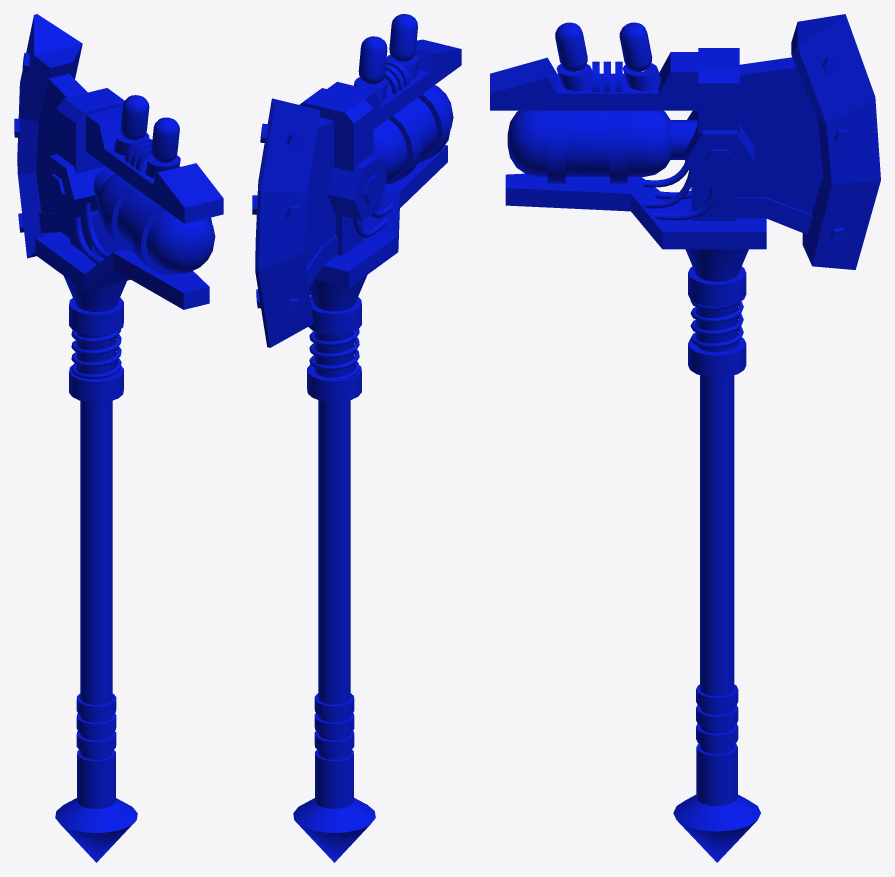
File: Sketchfab_2024_02_07_03_25_11.fbx
The picture shows the model from 3 angles, left to right: view 1: azimuth 30°, elevation 25°; view 2: azimuth 150°, elevation 25°; view 3: azimuth 270°, elevation 25°; orthographic projection. The views are drawn at different scales.
Visible parts, largest first — view 1: Handle.001, Body.001, Body.004, Body.005, Handle.002, Bulb.001, Body.003, Body.002, Handle, Body_detail.003, Body_detail.002, Handle.007 (+11 smaller); view 2: Body.001, Handle.001, Handle.002, Body.005, Body.003, Body.004, Body.002, Bulb.001, Body_detail.003, Handle, Body_detail.002, Handle.006 (+10 smaller); view 3: Body.001, Handle.001, Body.002, Body.005, Bulb.001, Body.004, Handle.002, Body.003, Body_detail.003, Handle, Body_detail.002, Body.006 (+11 smaller).
Boxes of the visible parts, bbox=[...] form: Handle.001: bbox=[80, 400, 112, 759]; Body.001: bbox=[17, 14, 82, 258]; Body.004: bbox=[86, 106, 223, 223]; Body.005: bbox=[35, 232, 209, 309]; Handle.002: bbox=[55, 749, 137, 862]; Bulb.001: bbox=[97, 173, 215, 273]; Body.003: bbox=[56, 88, 124, 173]; Body.002: bbox=[36, 73, 87, 212]; Handle: bbox=[64, 276, 126, 378]; Body_detail.003: bbox=[41, 154, 106, 219]; Body_detail.002: bbox=[102, 179, 212, 274]; Handle.007: bbox=[69, 297, 123, 335]; Body.001: bbox=[255, 98, 320, 347]; Handle.001: bbox=[318, 400, 350, 759]; Handle.002: bbox=[293, 749, 375, 862]; Body.005: bbox=[314, 145, 447, 288]; Body.003: bbox=[299, 88, 373, 171]; Body.004: bbox=[327, 39, 461, 129]; Body.002: bbox=[304, 117, 335, 267]; Bulb.001: bbox=[373, 85, 453, 180]; Body_detail.003: bbox=[327, 155, 387, 220]; Handle: bbox=[309, 275, 367, 377]; Body_detail.002: bbox=[385, 88, 451, 183]; Handle.006: bbox=[307, 364, 361, 402]; Body.001: bbox=[791, 14, 880, 269]; Handle.001: bbox=[700, 375, 734, 754]; Body.002: bbox=[736, 57, 822, 214]; Body.005: bbox=[505, 173, 766, 249]; Bulb.001: bbox=[507, 110, 670, 176]; Body.004: bbox=[490, 52, 698, 110]; Handle.002: bbox=[673, 743, 760, 862]; Body.003: bbox=[698, 48, 739, 135]; Body_detail.003: bbox=[685, 110, 754, 188]; Handle: bbox=[685, 249, 748, 352]; Body_detail.002: bbox=[547, 110, 627, 183]; Body.006: bbox=[736, 197, 812, 234].
Bounding box in the file's own units: 16.33 × 154 × 64.49.
